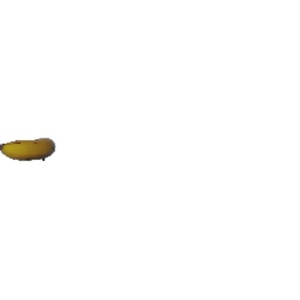banana: (1, 131, 60, 165)
